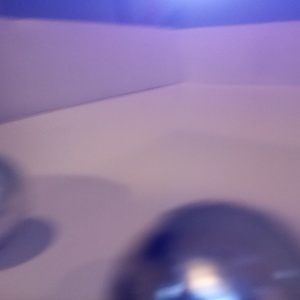alive_ball: (106, 202, 300, 300), (1, 154, 27, 249)
